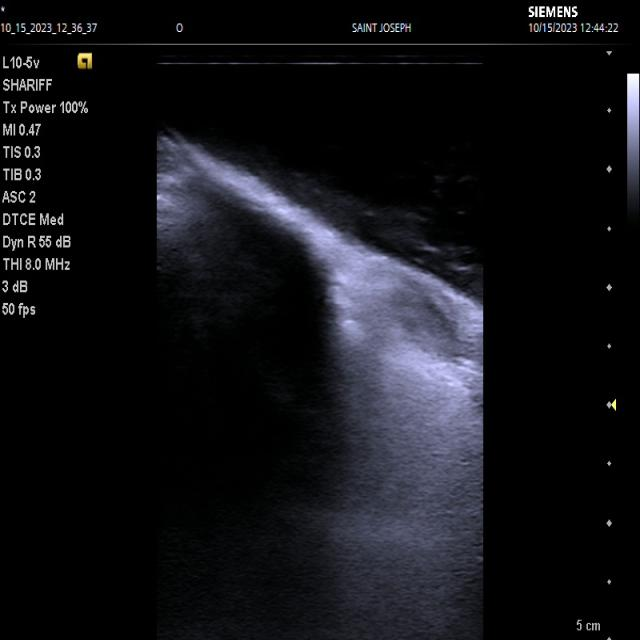tissue: (151, 134, 483, 640)
